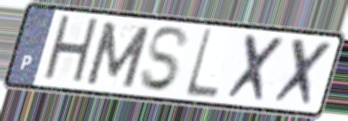H: (39, 12, 102, 89)
L: (182, 27, 221, 101)
M: (82, 20, 153, 91)
S: (137, 25, 191, 95)
X: (268, 35, 337, 111), (222, 32, 290, 106)
